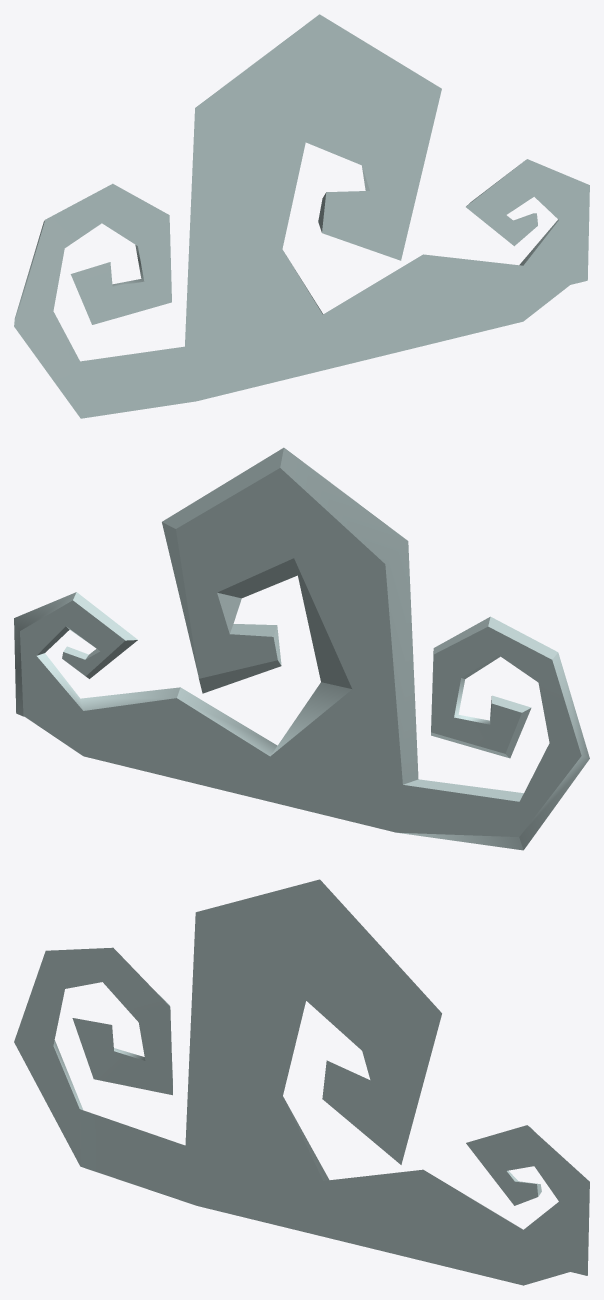
File: cloud_1.fbx
3 views of the same model, one above another, from view 1: azimuth 30°, elevation 25°; view 2: azimuth 150°, elevation 25°; view 3: azimuth 330°, elevation 25° (orthographic).
Visible parts, largest first — view 1: cloud_1; view 2: cloud_1; view 3: cloud_1.
Boxes of the visible parts, box(x1,y1,x2,y2) form: cloud_1: box(14, 14, 589, 418); cloud_1: box(14, 447, 589, 850); cloud_1: box(14, 879, 589, 1285).
Bounding box in the file's own units: 156 × 92.35 × 2.27.
